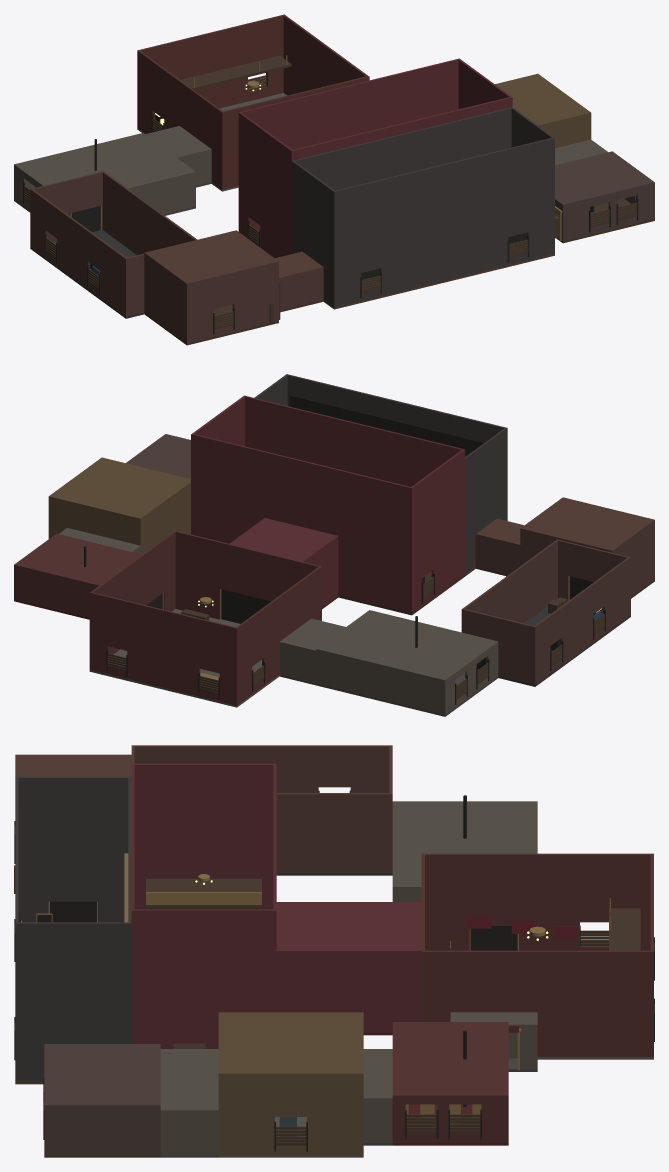
Rendered from kino.glb.
3 views of the same model, one above another, from view 1: azimuth 30°, elevation 25°; view 2: azimuth 150°, elevation 25°; view 3: azimuth 270°, elevation 25° (orthographic). The views are drawn at different scales.
Parts seen in each view (by area): view 1: Wall_stage_N_3, Ceiling_lower_hall, Wall_theater_S_2, Ceiling_back_room, Wall_lobby_S_3, Wall_alley_E_0, Wall_theater_W_3, Ceiling_dressing_room, Wall_stage_N_0, Wall_theater_S_0, Wall_stage_N_6, Wall_lobby_E_0 (+49 smaller); view 2: Wall_theater_S_0, Wall_theater_S_2, Ceiling_lower_hall, Wall_lobby_S_3, Ceiling_foyer, Wall_lower_hall_S_0, Ceiling_back_room, Wall_alley_E_0, Wall_theater_W_3, Wall_theater_N_lintel_1, Wall_theater_S_lintel_1, Ceiling_upper_hall (+55 smaller); view 3: Wall_lobby_E_0, Wall_theater_W_3, Wall_theater_hall_E_0, Ceiling_foyer, Wall_alley_E_0, Ceiling_upper_hall, Ceiling_lower_hall, Wall_theater_E_0, Ceiling_theater_hall, Ceiling_dressing_room, Wall_stage_W_lintel_1, Wall_stage_E_lintel_1 (+40 smaller).
Part boxes in pixels (x1=…): Wall_stage_N_3: x1=380, y1=149, x2=508, y2=295; Ceiling_lower_hall: x1=14, y1=133, x2=195, y2=189; Wall_theater_S_2: x1=377, y1=59, x2=458, y2=128; Ceiling_back_room: x1=144, y1=230, x2=278, y2=285; Wall_lobby_S_3: x1=175, y1=23, x2=247, y2=108; Wall_alley_E_0: x1=102, y1=171, x2=197, y2=255; Wall_theater_W_3: x1=260, y1=128, x2=293, y2=257; Ceiling_dressing_room: x1=555, y1=151, x2=654, y2=206; Wall_stage_N_0: x1=333, y1=184, x2=360, y2=306; Wall_theater_S_0: x1=238, y1=92, x2=322, y2=231; Wall_stage_N_6: x1=527, y1=138, x2=554, y2=260; Wall_lobby_E_0: x1=283, y1=15, x2=338, y2=95; Wall_theater_S_0: x1=329, y1=467, x2=412, y2=613; Wall_theater_S_2: x1=191, y1=434, x2=274, y2=543; Ceiling_lower_hall: x1=316, y1=610, x2=498, y2=681; Wall_lobby_S_3: x1=127, y1=601, x2=200, y2=696; Ceiling_foyer: x1=48, y1=457, x2=190, y2=520; Wall_lower_hall_S_0: x1=318, y1=651, x2=446, y2=714; Ceiling_back_room: x1=520, y1=497, x2=654, y2=552; Wall_alley_E_0: x1=461, y1=540, x2=558, y2=632; Wall_theater_W_3: x1=431, y1=449, x2=465, y2=597; Wall_theater_N_lintel_1: x1=316, y1=413, x2=390, y2=481; Wall_theater_S_lintel_1: x1=274, y1=454, x2=329, y2=533; Ceiling_upper_hall: x1=14, y1=533, x2=141, y2=586; Wall_lobby_E_0: x1=504, y1=950, x2=653, y2=1056; Wall_theater_W_3: x1=132, y1=763, x2=216, y2=909; Wall_theater_hall_E_0: x1=276, y1=953, x2=421, y2=1032; Ceiling_foyer: x1=218, y1=1012, x2=363, y2=1076; Wall_alley_E_0: x1=276, y1=793, x2=392, y2=872; Ceiling_upper_hall: x1=392, y1=1022, x2=508, y2=1098; Ceiling_lower_hall: x1=392, y1=801, x2=537, y2=889; Wall_theater_E_0: x1=205, y1=909, x2=276, y2=1048; Ceiling_theater_hall: x1=276, y1=902, x2=421, y2=953; Ceiling_dressing_room: x1=44, y1=1044, x2=160, y2=1107; Wall_stage_W_lintel_1: x1=48, y1=776, x2=97, y2=901; Wall_stage_E_lintel_1: x1=48, y1=922, x2=97, y2=1043.
Bounding box in the file's own units: 54.16 × 14.2 × 44.18.
